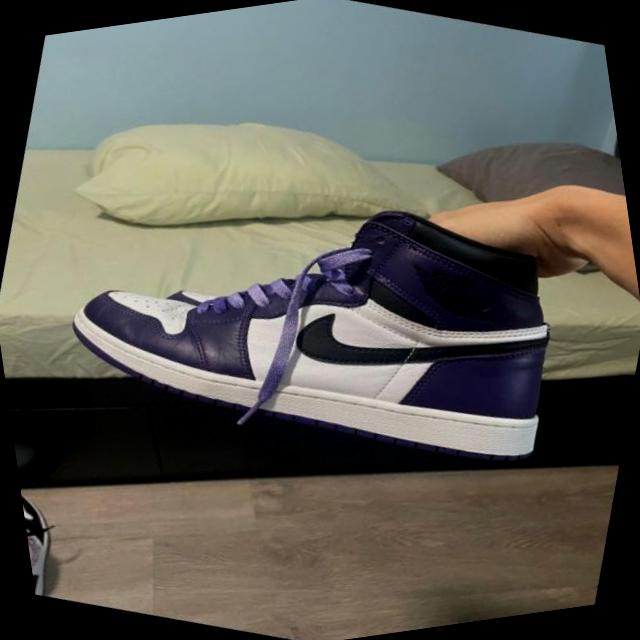nike_original_jordan: (29, 94, 612, 537)
